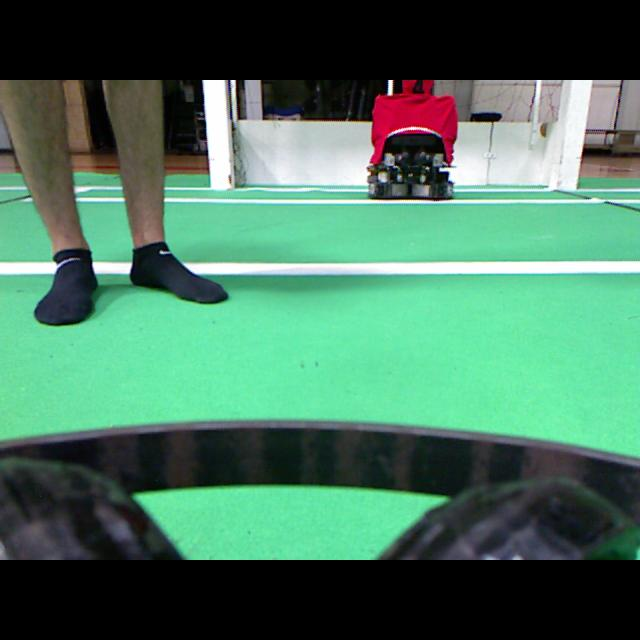goal: (557, 80, 591, 189), (202, 80, 233, 188)
